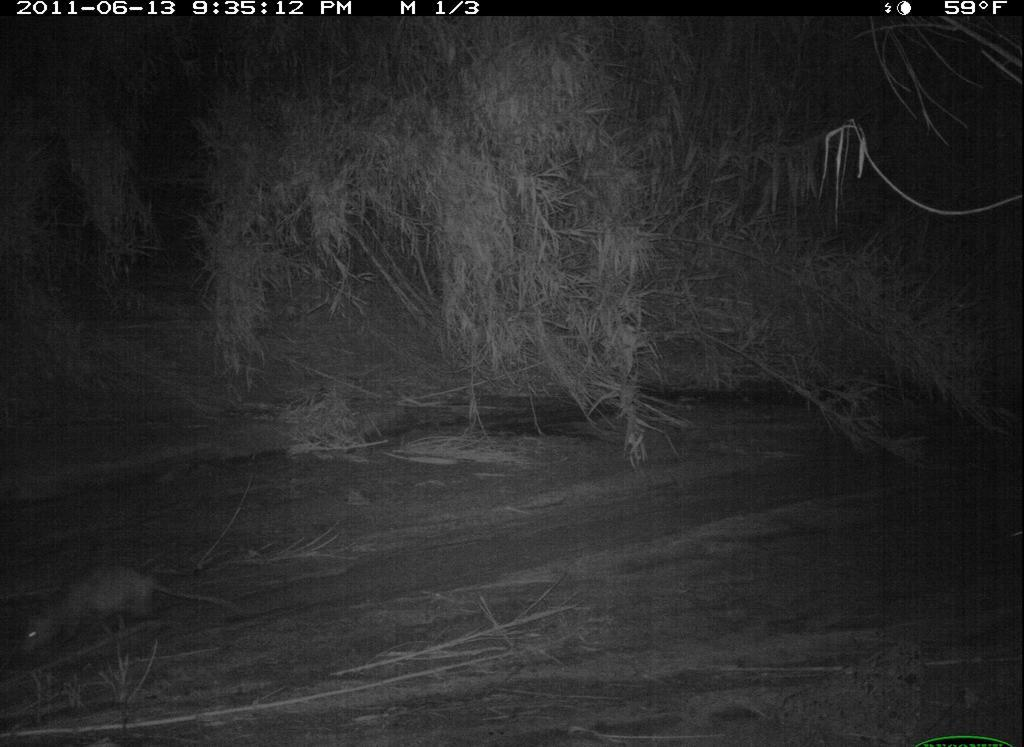opossum: (9, 553, 271, 669)
